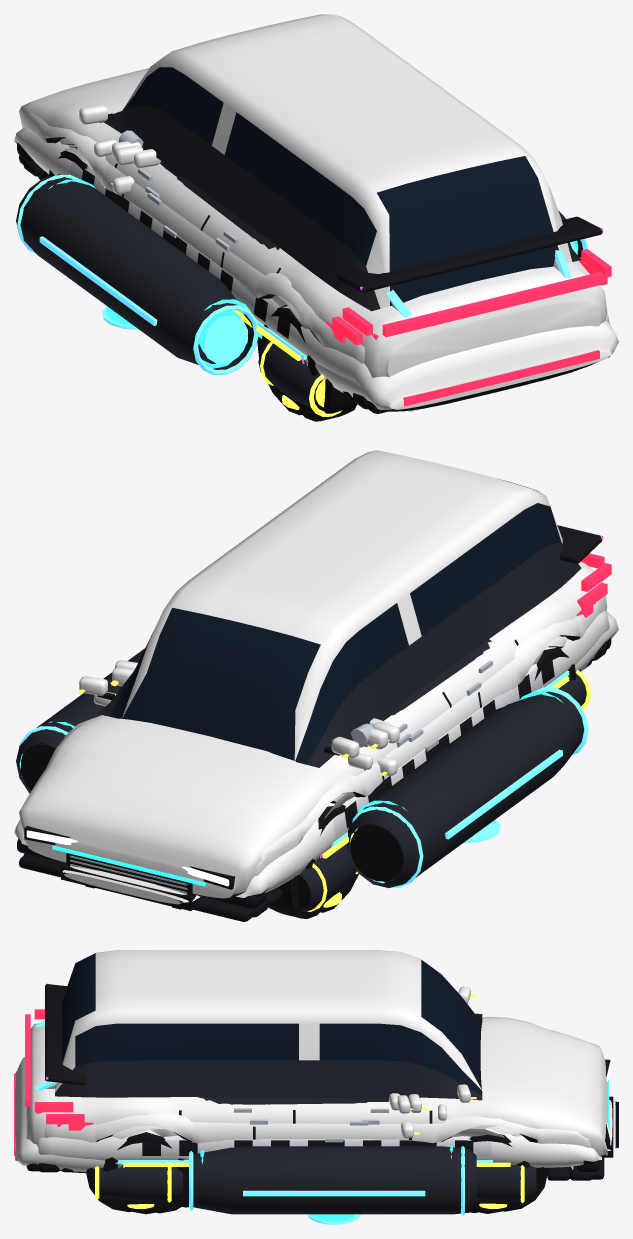
Rendered from cars.glb.
3 renders of one model, top to bottom at view 1: azimuth 30°, elevation 25°; view 2: azimuth 150°, elevation 25°; view 3: azimuth 270°, elevation 25°, orthographic. The views are drawn at different scales.
Visible parts, largest first — view 1: van, flypolice, muscle, taxi, hover, super, police; view 2: van, flypolice, taxi, muscle, hover, super, police; view 3: van, flypolice, muscle, taxi, hover, super, police.
Part boxes in pixels (box(x1,y1,x2,y2)): van: box(19, 14, 611, 421); flypolice: box(16, 174, 618, 411); muscle: box(23, 112, 607, 415); taxi: box(14, 127, 609, 416); hover: box(43, 179, 578, 368); super: box(37, 148, 353, 398); police: box(41, 130, 590, 344); van: box(19, 450, 611, 921); flypolice: box(16, 611, 618, 910); taxi: box(14, 610, 609, 911); muscle: box(23, 525, 607, 917); hover: box(28, 684, 562, 881); super: box(116, 604, 593, 906); police: box(85, 603, 595, 909); van: box(25, 950, 611, 1212); flypolice: box(14, 1020, 618, 1224); muscle: box(36, 983, 592, 1214); taxi: box(36, 1097, 601, 1208); hover: box(200, 1145, 453, 1221); super: box(62, 1122, 575, 1213); police: box(57, 1094, 573, 1178).
Size of what is drawn, in the model's own units: 3.3 by 1.81 by 5.31.
